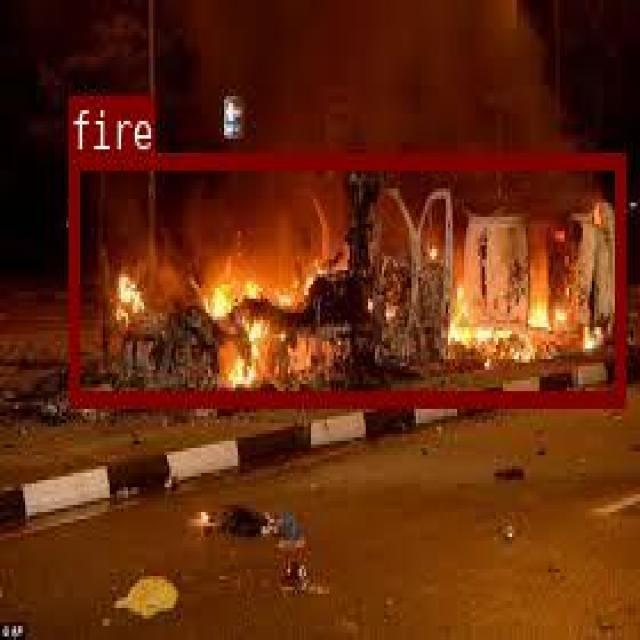fire: (68, 153, 623, 405)
